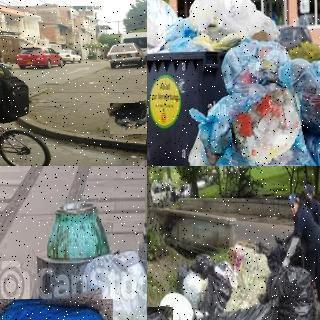Garbage: (228, 90, 305, 166), (216, 35, 291, 102), (87, 252, 147, 320), (188, 0, 278, 42), (185, 96, 241, 162), (0, 293, 117, 320), (265, 265, 320, 320), (282, 55, 320, 131), (147, 0, 177, 50), (255, 144, 320, 166), (108, 101, 147, 136), (203, 271, 230, 313), (189, 253, 214, 275), (147, 306, 174, 320)
